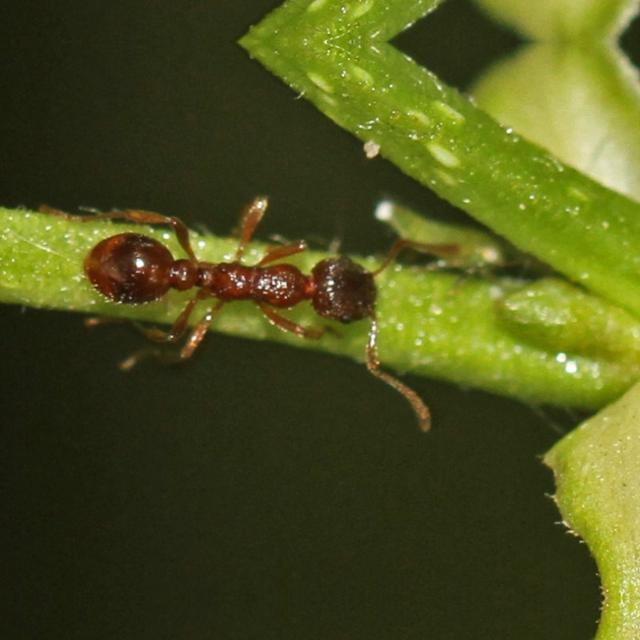Myrmica: (17, 158, 475, 392)
